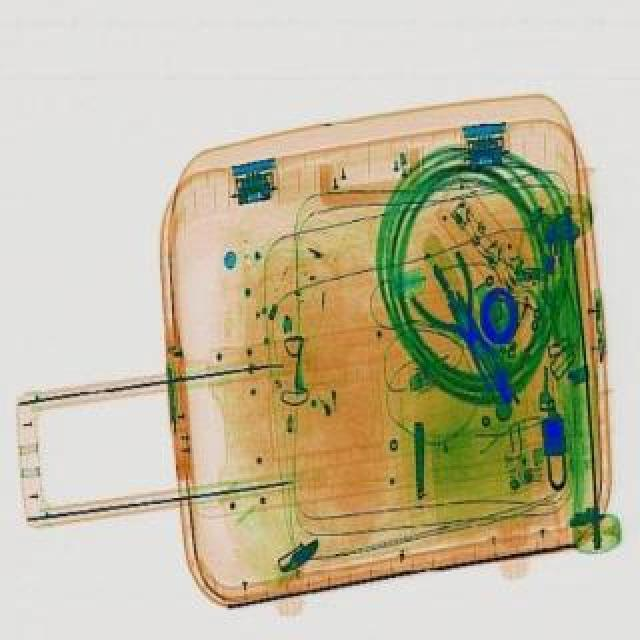wrench: (398, 246, 532, 402)
